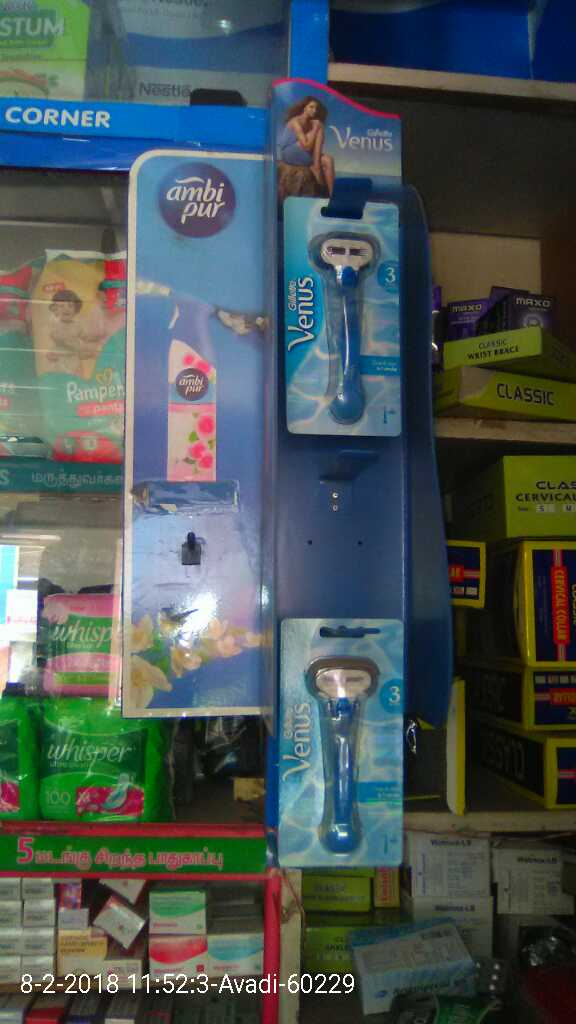beauty: (276, 611, 404, 874), (274, 189, 406, 438)
pharmacy: (29, 236, 134, 464), (39, 703, 154, 827)
